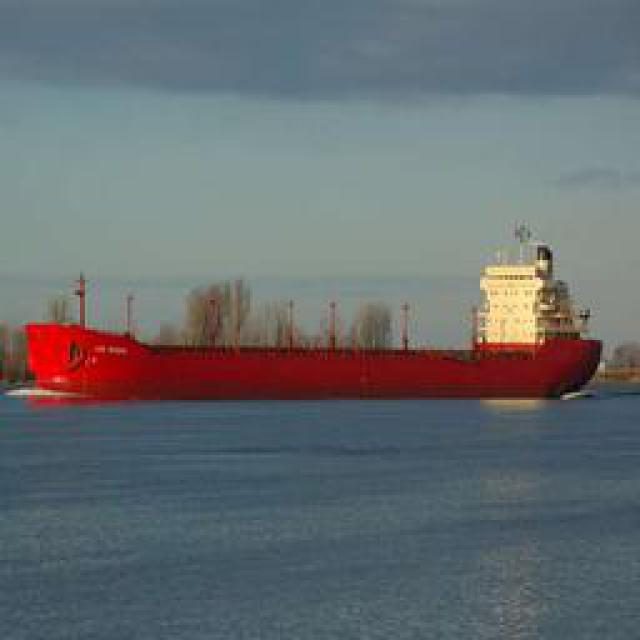Ship: (35, 277, 600, 405)
